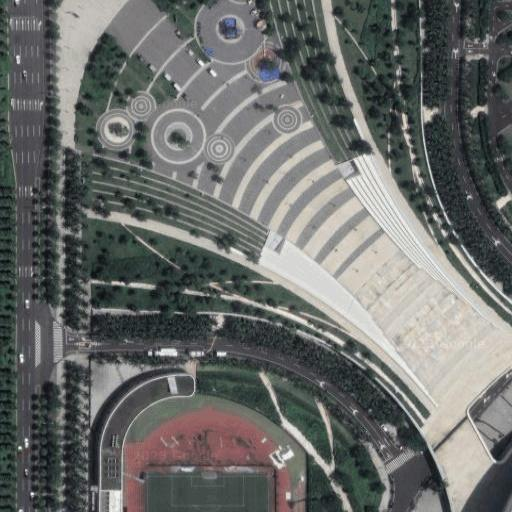building: (102, 376, 196, 512), (493, 482, 512, 512), (257, 65, 281, 82), (226, 20, 237, 37)
